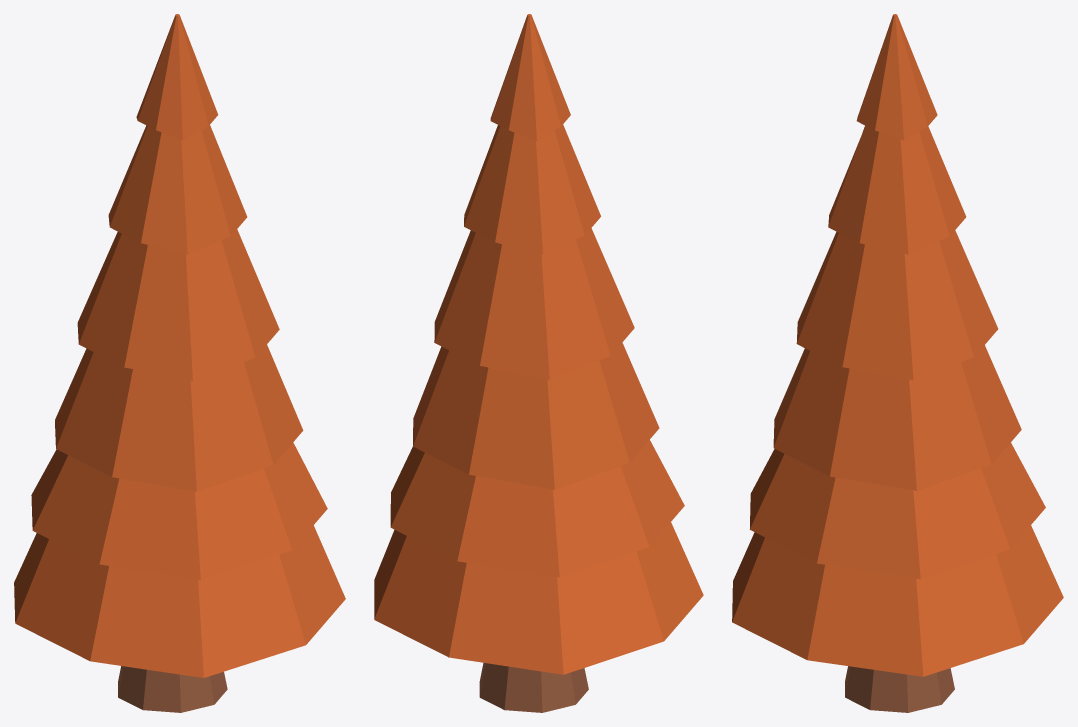
Rendered from Arvore_Laranja.fbx.
3 renders of one model, left to right at view 1: azimuth 30°, elevation 25°; view 2: azimuth 150°, elevation 25°; view 3: azimuth 270°, elevation 25°, orthographic.
Parts seen in each view (by area): view 1: Mesh; view 2: Mesh; view 3: Mesh.
Part boxes in pixels (left/top/right/bottom): Mesh: left=14, top=14, right=345, bottom=712; Mesh: left=374, top=14, right=703, bottom=712; Mesh: left=732, top=14, right=1063, bottom=712.
Bounding box in the file's own units: 22.17 × 49.27 × 21.89.
